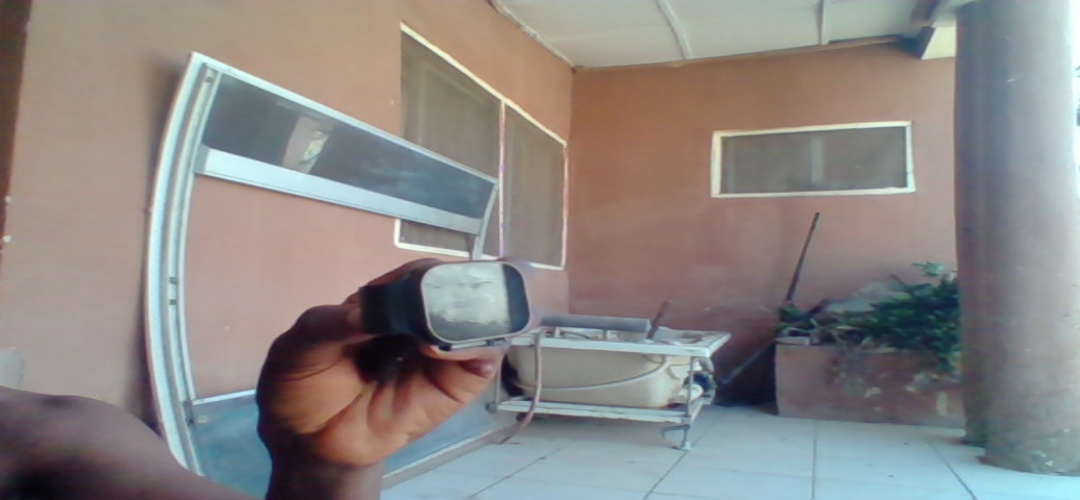smart_watch: (361, 256, 534, 353)
